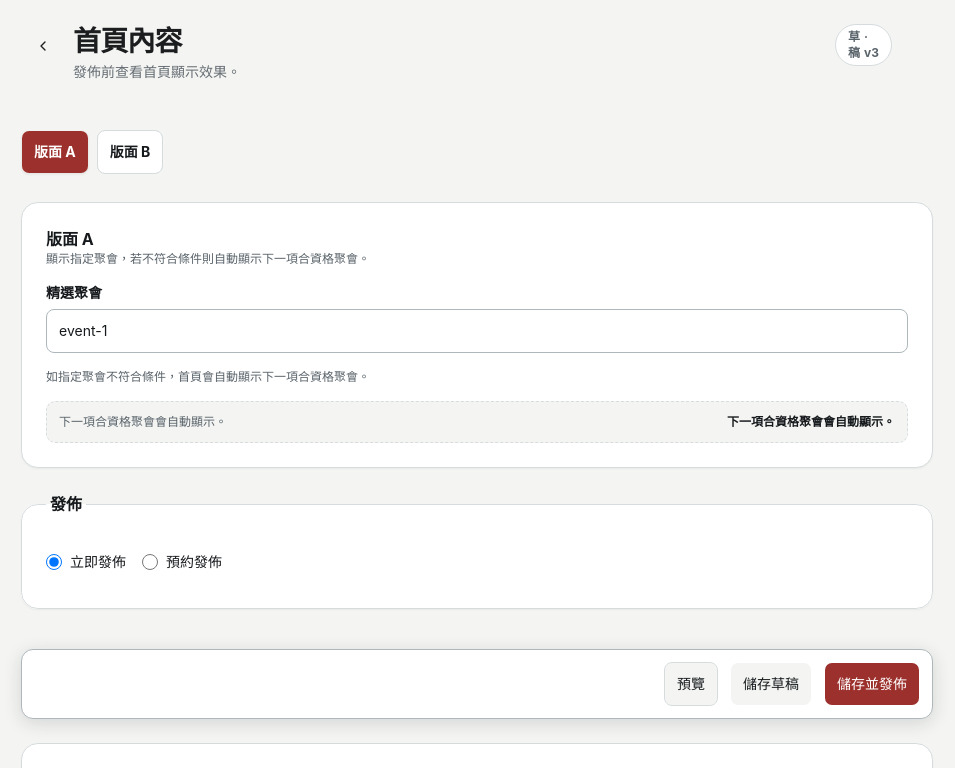
Test case: HomeContentEditor › saves a draft without publishing it
Check: the heading "首頁內容" is shown, box [73,24,182,58]
Check: the field with id "home-cms-featured-event" is shown, box [46,309,908,353]
Click the button "版面 B" at (130, 152), box [97,130,163,174]
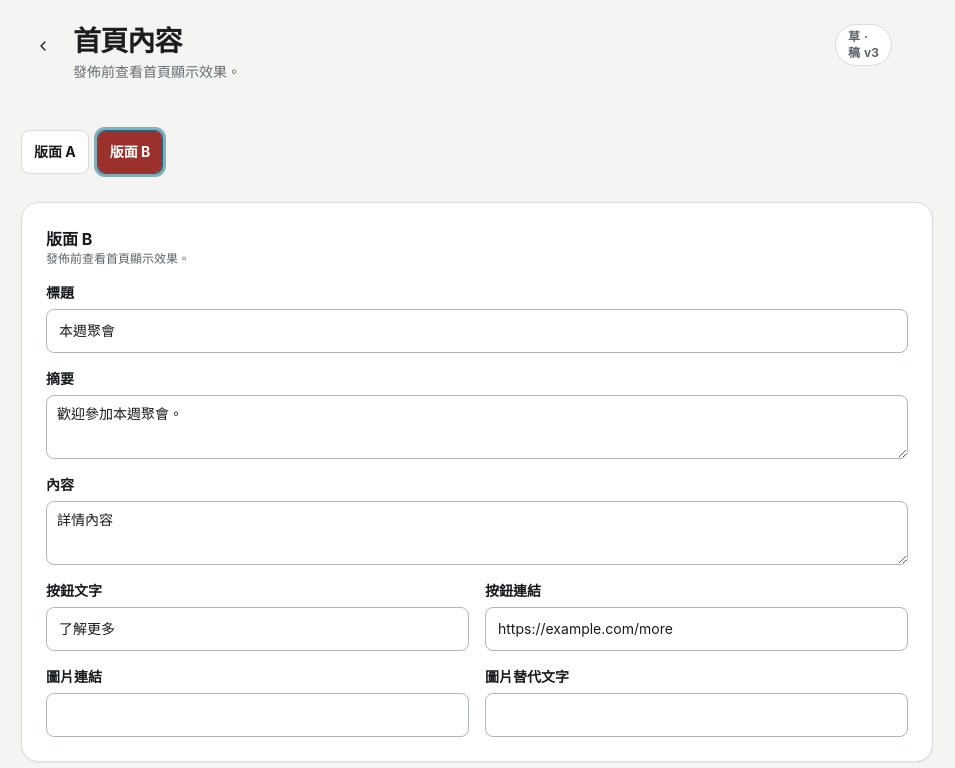
Replace the text in the field with id "home-cms-featured-event" with "未發佈草稿" at (477, 331), box [46,309,908,353]
(page scrolled)
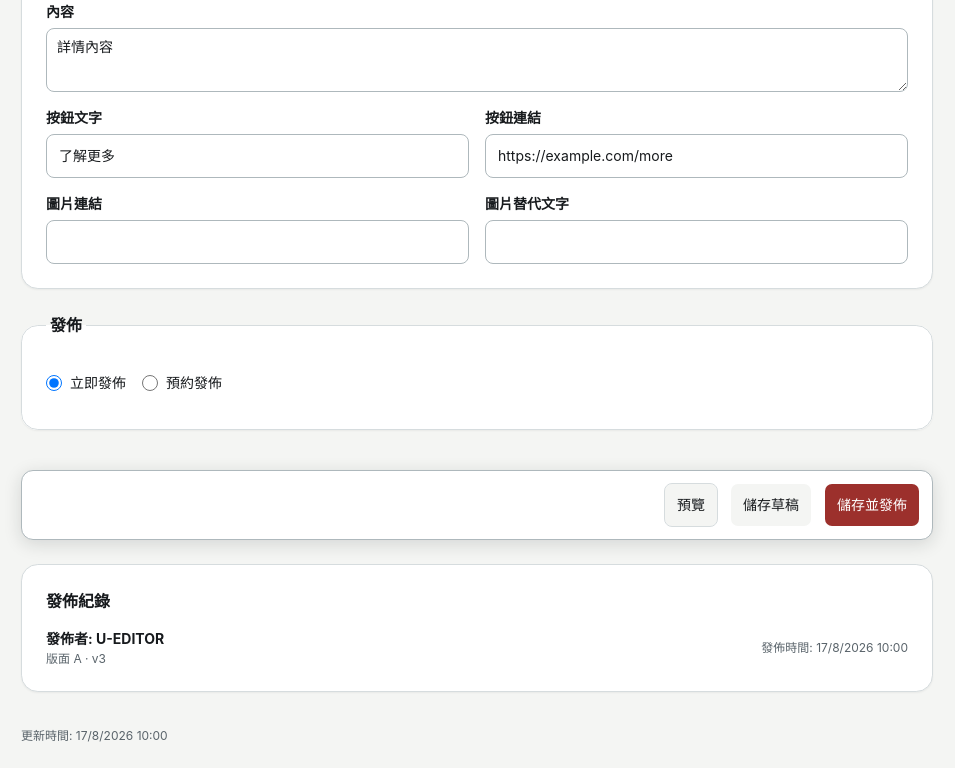
Click the button "儲存草稿" at (771, 505), box [730,483,812,527]
(page scrolled)
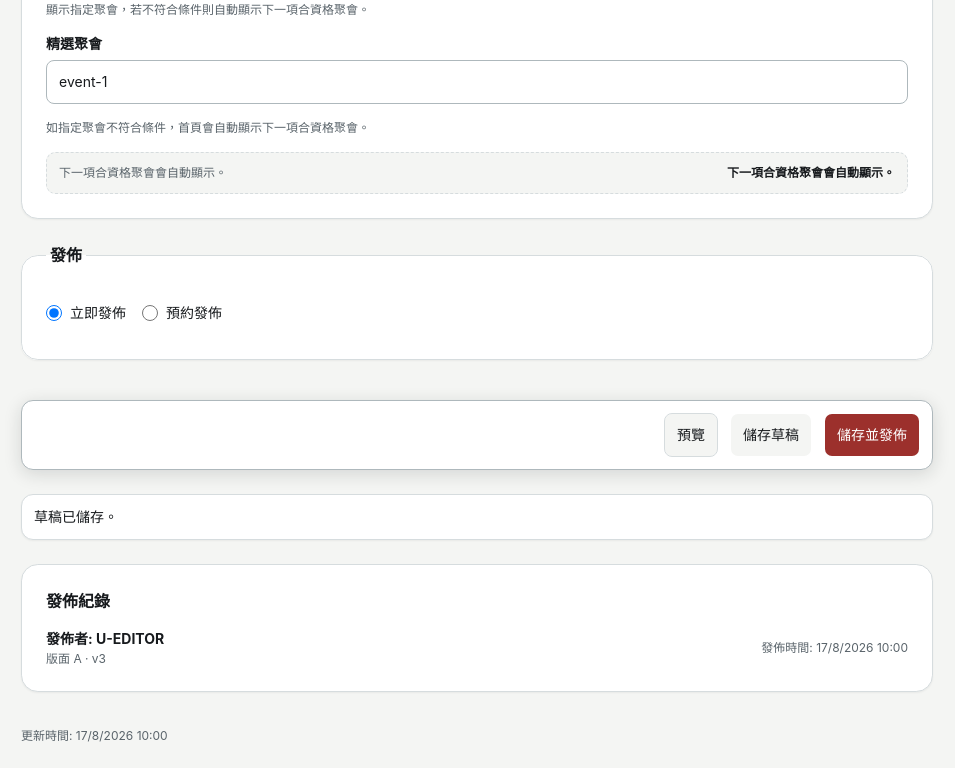
Check: the text "草稿已儲存。" is shown, box [21,494,933,540]
